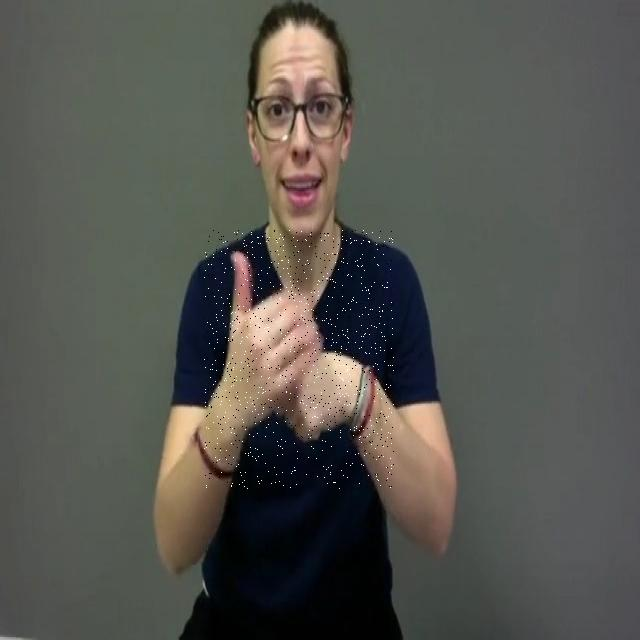bread: (204, 230, 394, 489)
